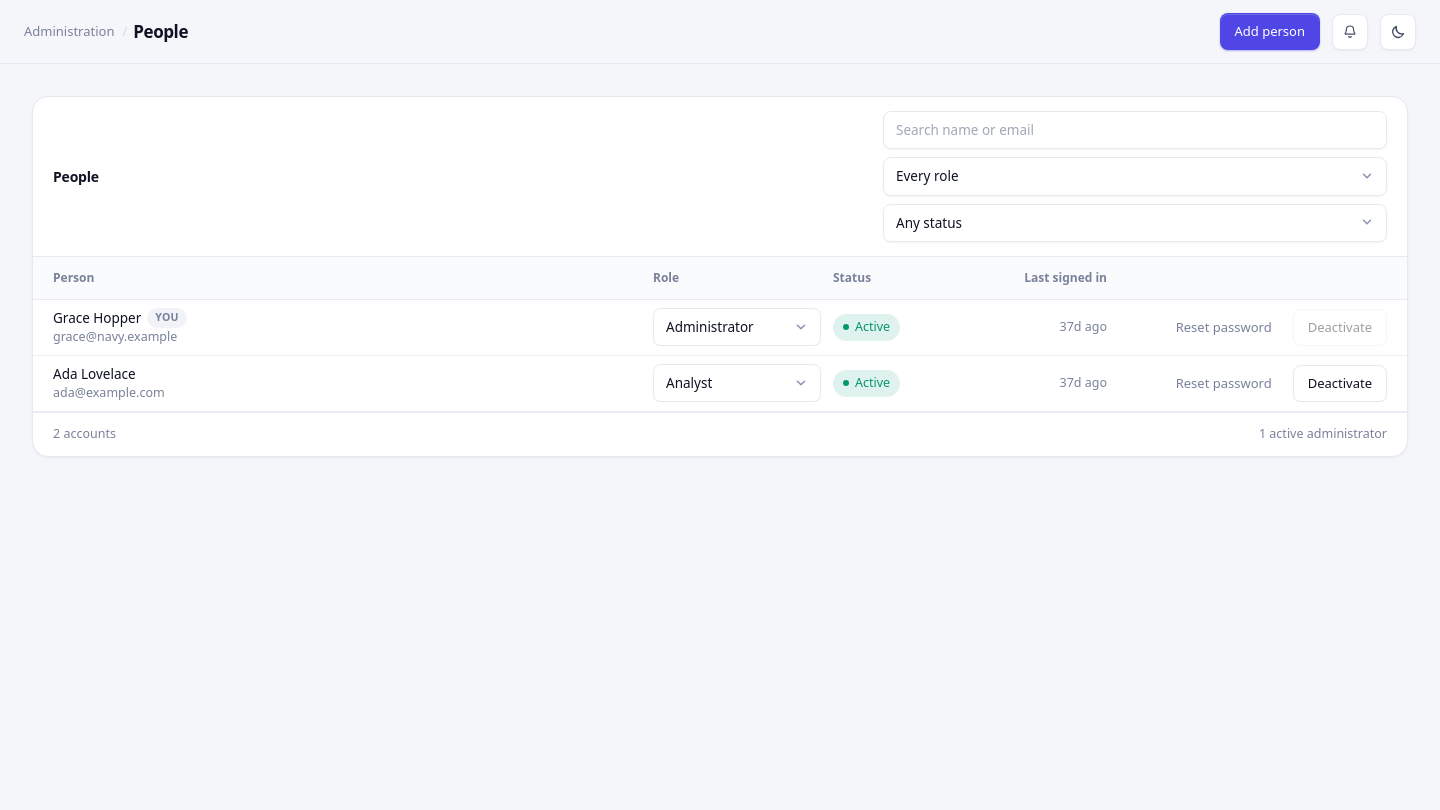
Scenario: opening an account › shows the temporary password once, and says it will not come back
This screenshot has width=1440, height=810.
Expected: the text "Ada Lovelace" is shown, [53,364,136,384]
Click the button "Add person" at (1270, 32), box [1220,13,1320,50]
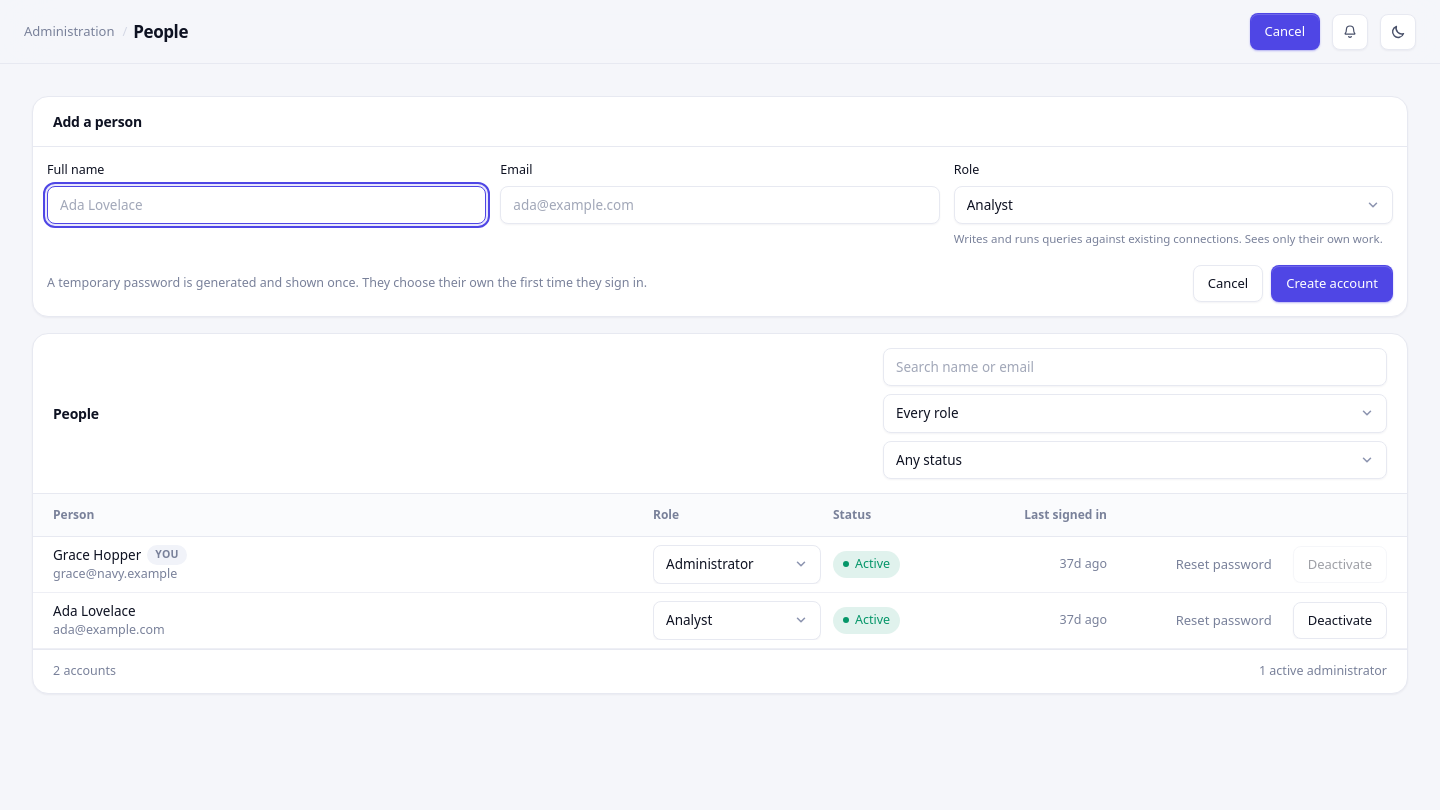
Type "Alan Turing" into the field labelled "Full name" at (267, 205), box [47,186,486,224]
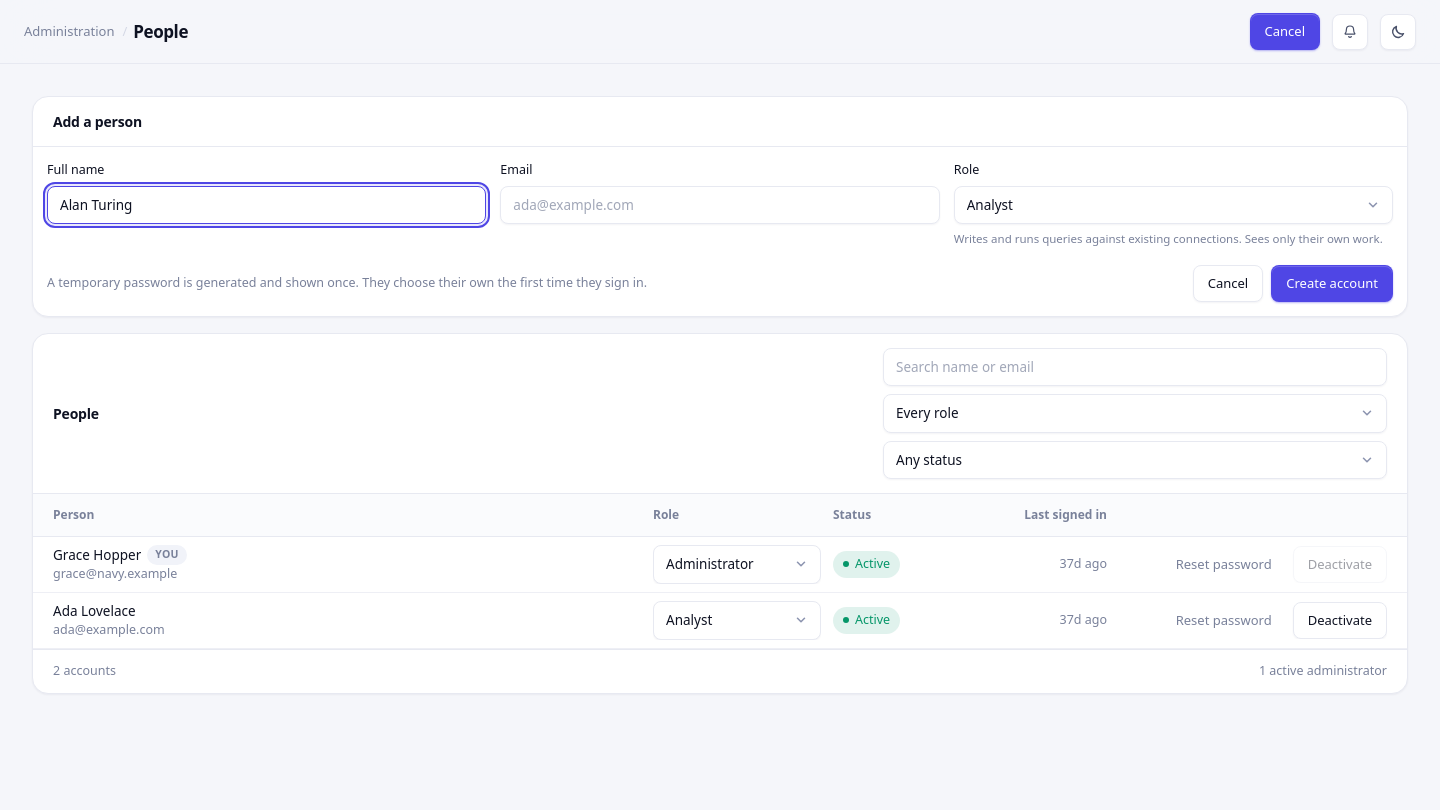
Type "alan@example.com" into the field labelled "Email" at (720, 205), box [500,186,940,224]
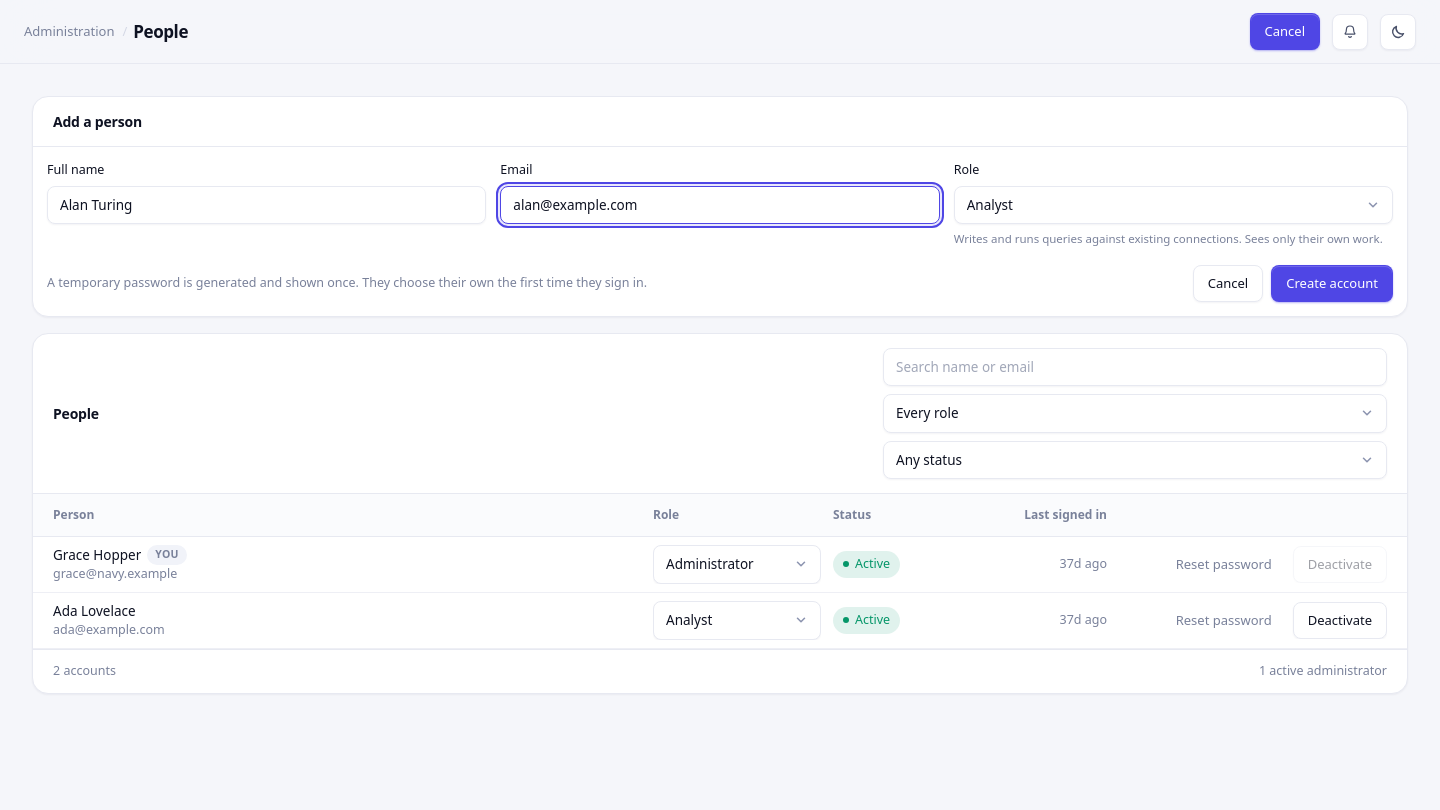
Click the button "Create account" at (1332, 283), box [1271,265,1393,302]
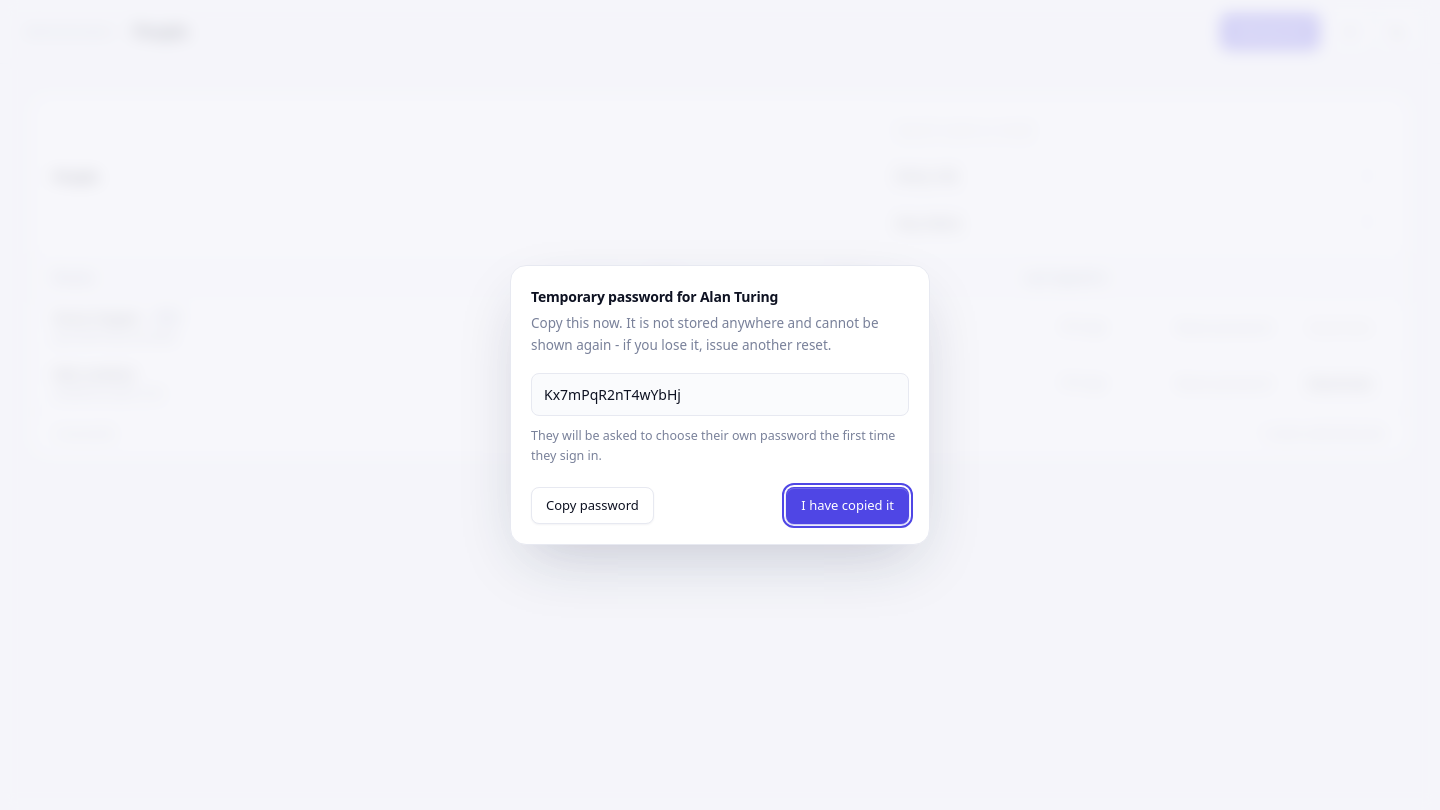
Expected: the text "Kx7mPqR2nT4wYbHj" is shown, [531,373,909,416]
Expected: the text "cannot be shown again" is shown, [531,314,878,354]
